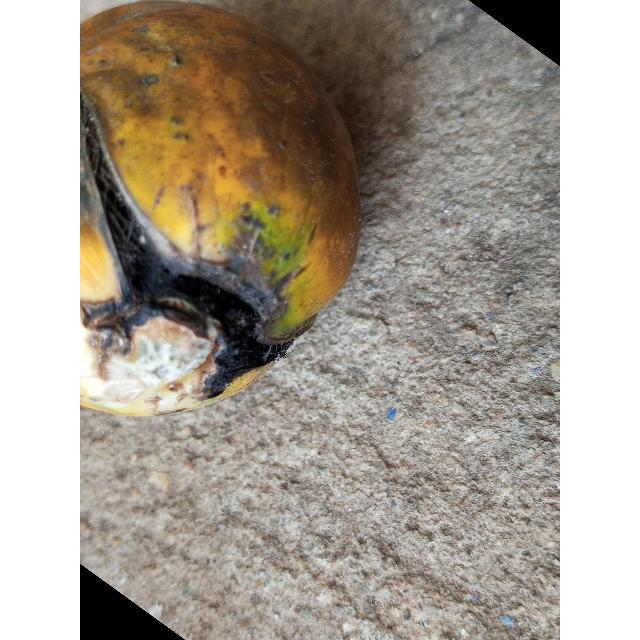damaged: (80, 2, 361, 416)
